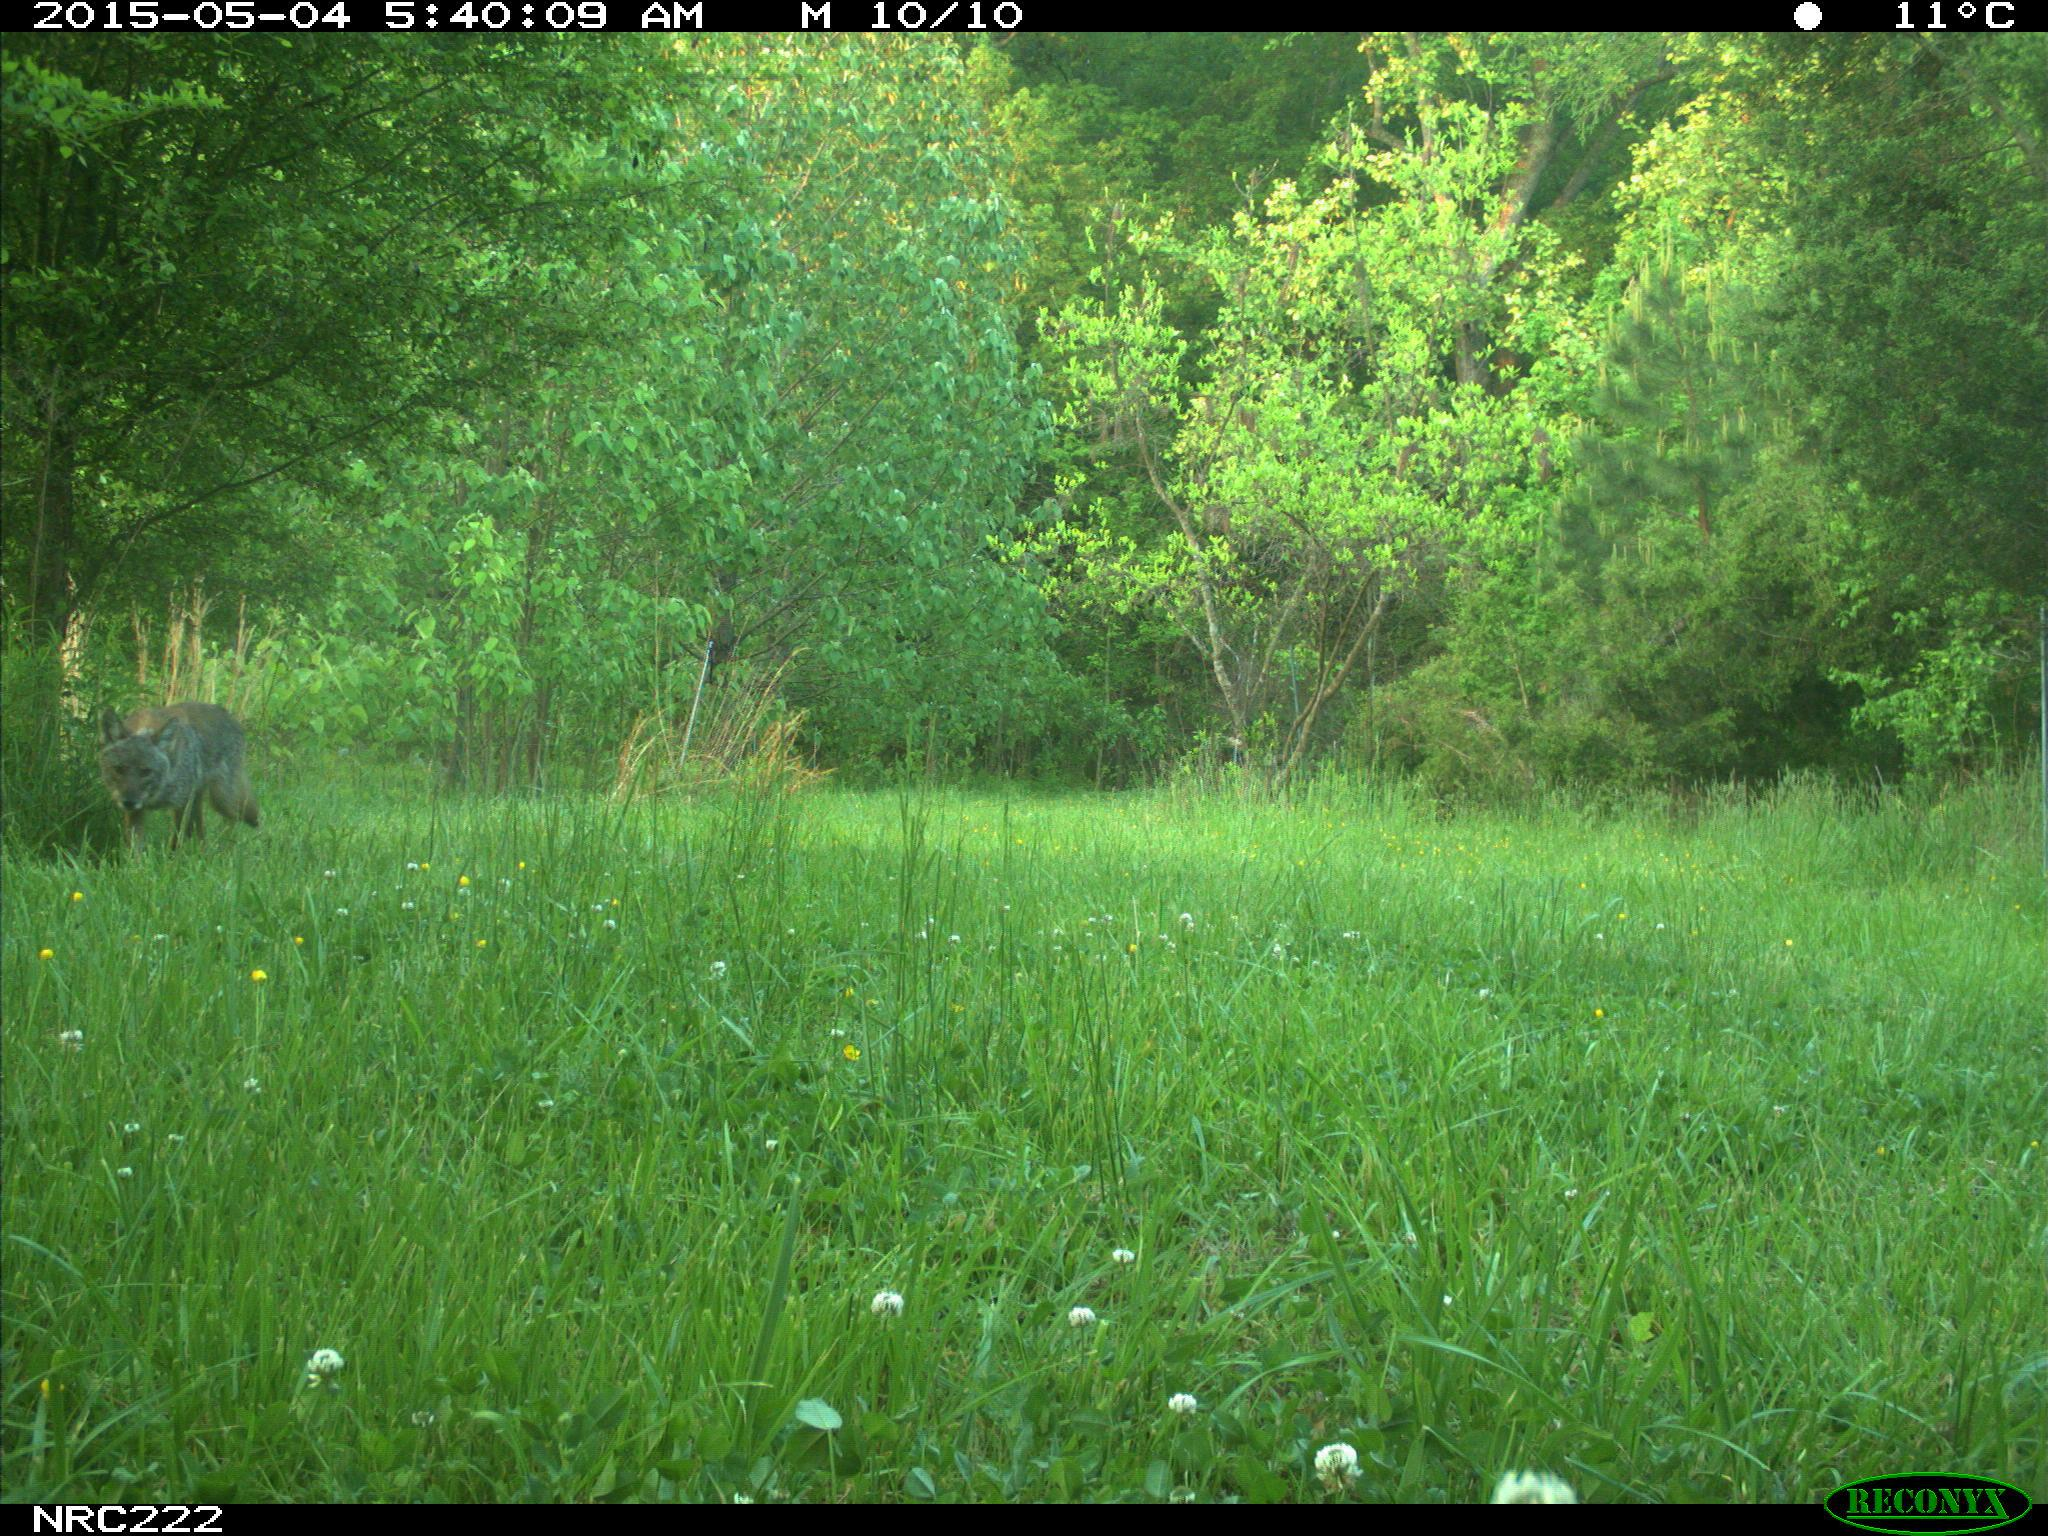Animal: (97, 700, 261, 860)
